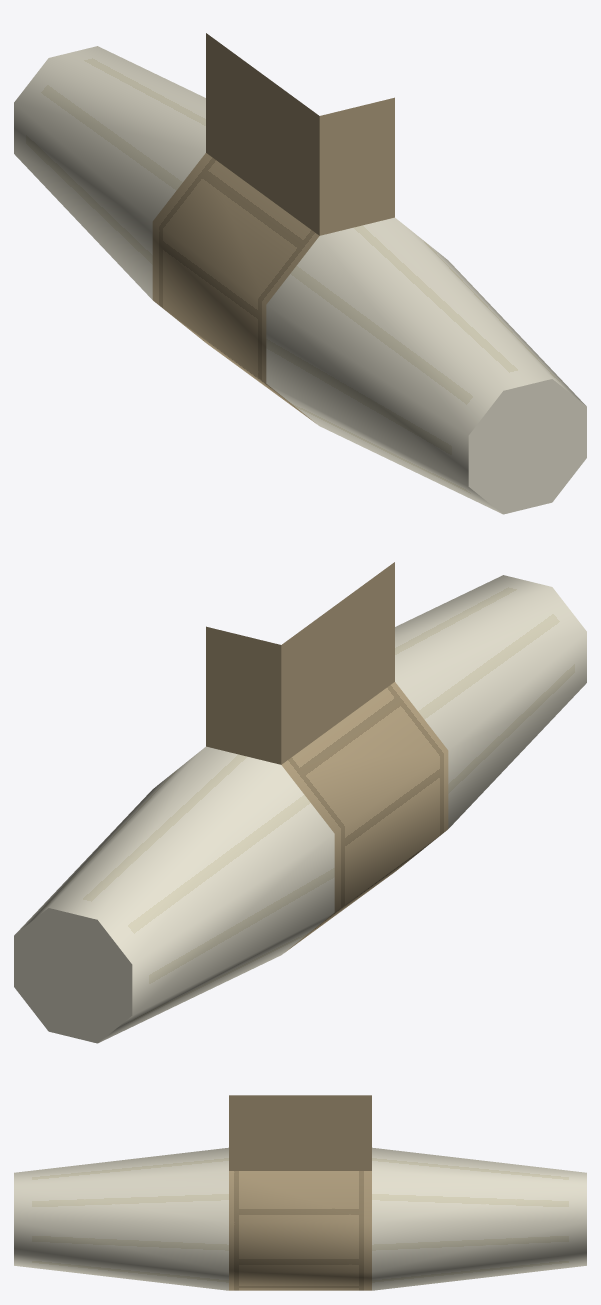
Rendered from kd_stage_135d18_4_67_bounded.glb.
3 renders of one model, top to bottom at view 1: azimuth 30°, elevation 25°; view 2: azimuth 150°, elevation 25°; view 3: azimuth 270°, elevation 25°, orthographic. The views are drawn at different scales.
Parts seen in each view (by area): view 1: kd_stage_135d18_4_67_bounded; view 2: kd_stage_135d18_4_67_bounded; view 3: kd_stage_135d18_4_67_bounded.
Boxes of the visible parts, x1=… form: kd_stage_135d18_4_67_bounded: x1=14, y1=33, x2=586, y2=514; kd_stage_135d18_4_67_bounded: x1=14, y1=562, x2=586, y2=1043; kd_stage_135d18_4_67_bounded: x1=14, y1=1095, x2=586, y2=1290.
Size of the model in its own units: 0.1848 by 0.3012 by 0.8.
Materials: 1 (1 with a texture image).
